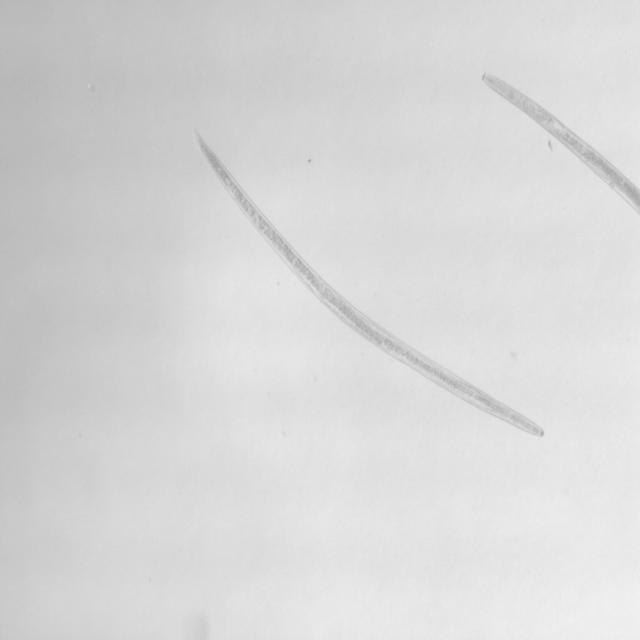Radopholus: (172, 122, 553, 445)
